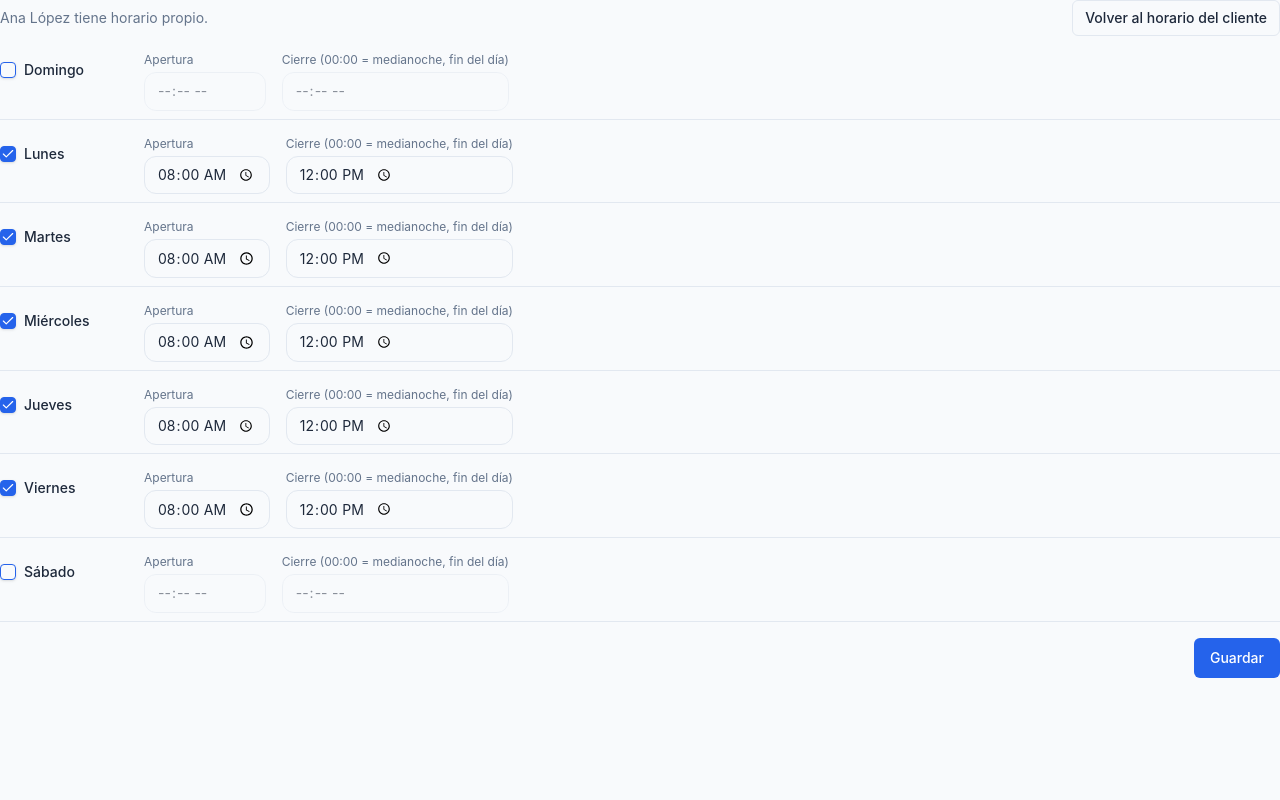
it: HorarioLaboralUsuarioPanel (tiempo-tecnico T2, pedidos-2026-10-26 S6) › cancelar la confirmación no hace el DELETE
The width and height of the screenshot is (1280, 800).
Click the button "Volver al horario del cliente" at [1176, 18], box [1072,0,1279,36]
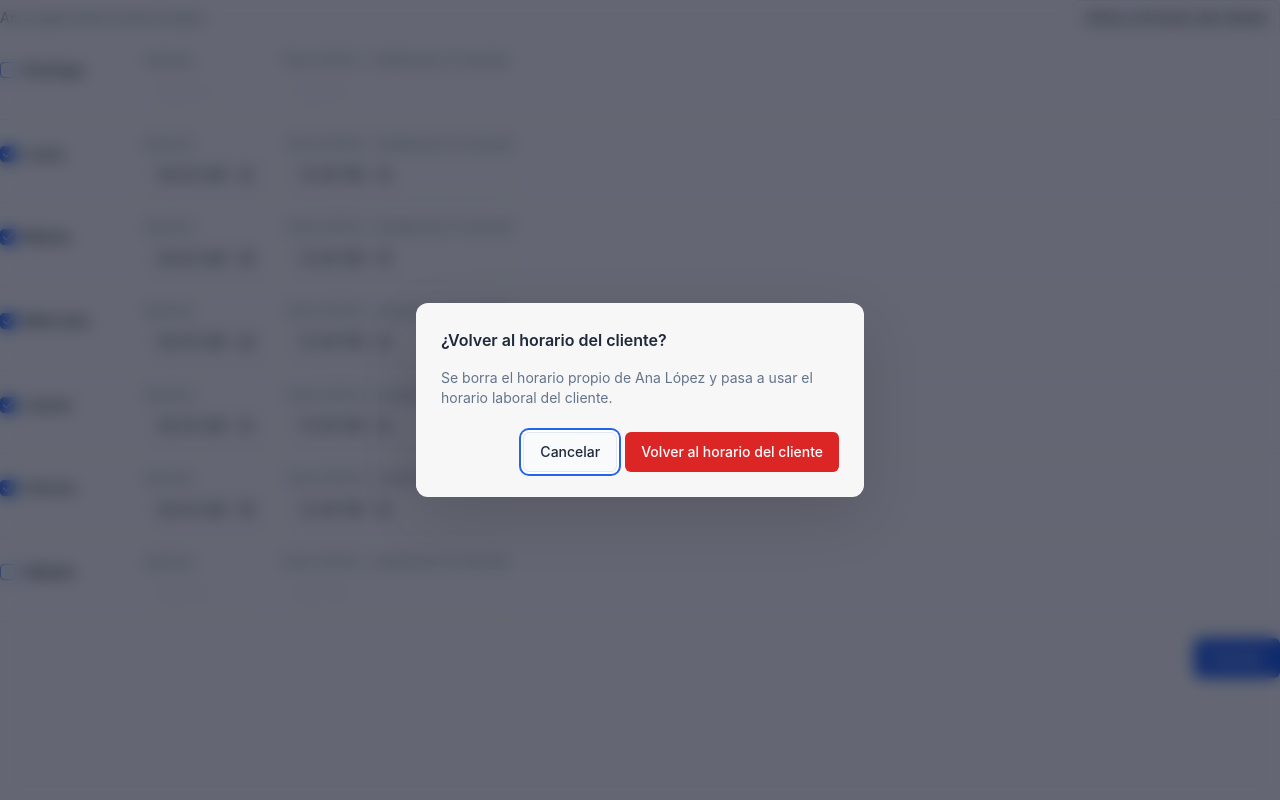
Click the button "Cancelar" at [570, 452], box [523,432,617,472]
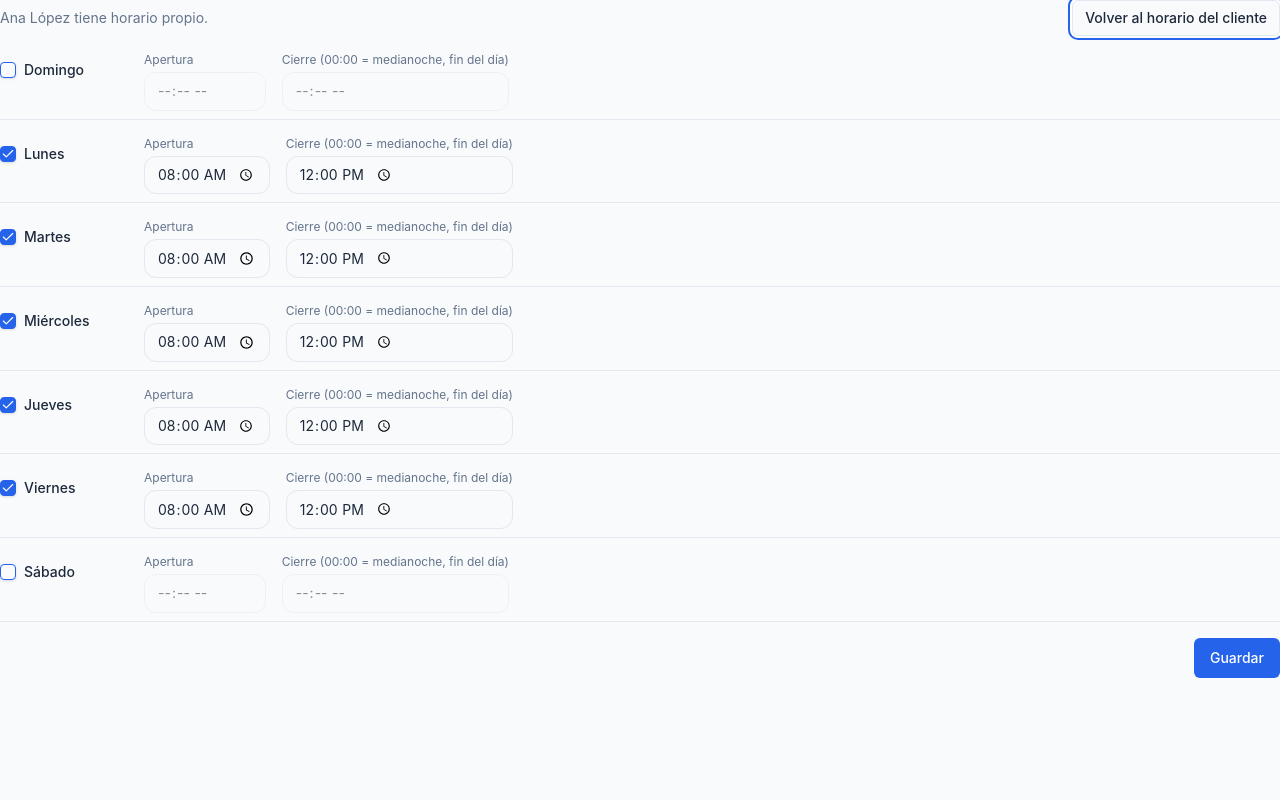
Check: the text "Ana López tiene horario propio." is shown, box [0,8,208,28]
Check: the dialog is gone
